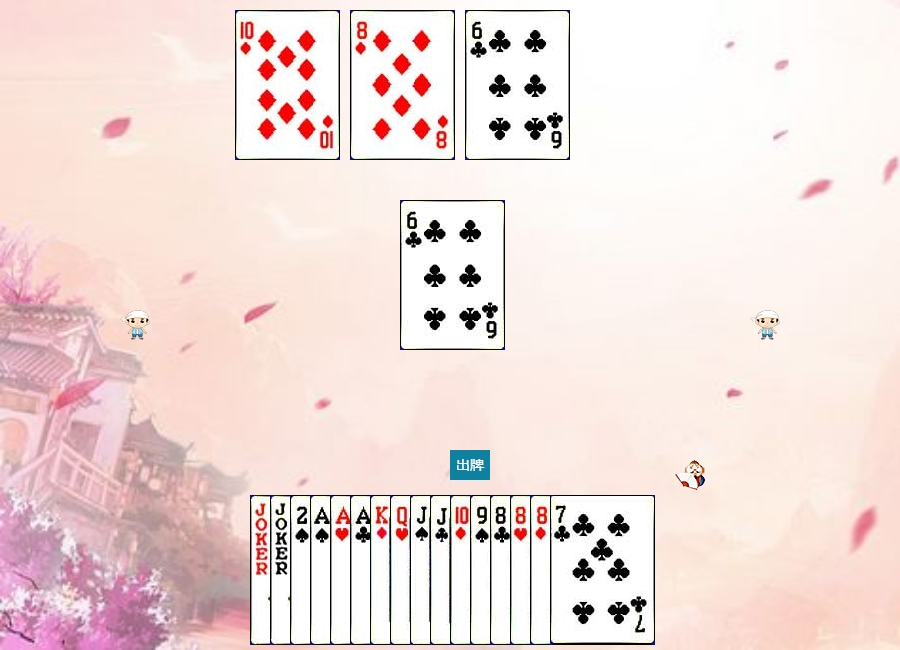10~1: (235, 10, 340, 160), (450, 495, 555, 645)
11~2: (430, 495, 535, 645)
11~4: (410, 495, 515, 645)
12~3: (390, 495, 495, 645)
13~1: (370, 495, 475, 645)
14~2: (350, 495, 455, 645)
14~3: (330, 495, 435, 645)
14~4: (310, 495, 415, 645)
15~4: (290, 495, 395, 645)
17~3: (270, 495, 375, 645)
18~4: (250, 495, 355, 645)
6~2: (465, 10, 570, 160), (400, 200, 505, 350)
7~2: (550, 495, 655, 645)
8~1: (350, 10, 455, 160), (530, 495, 635, 645)
8~2: (490, 495, 595, 645)
8~3: (510, 495, 615, 645)
9~4: (470, 495, 575, 645)
